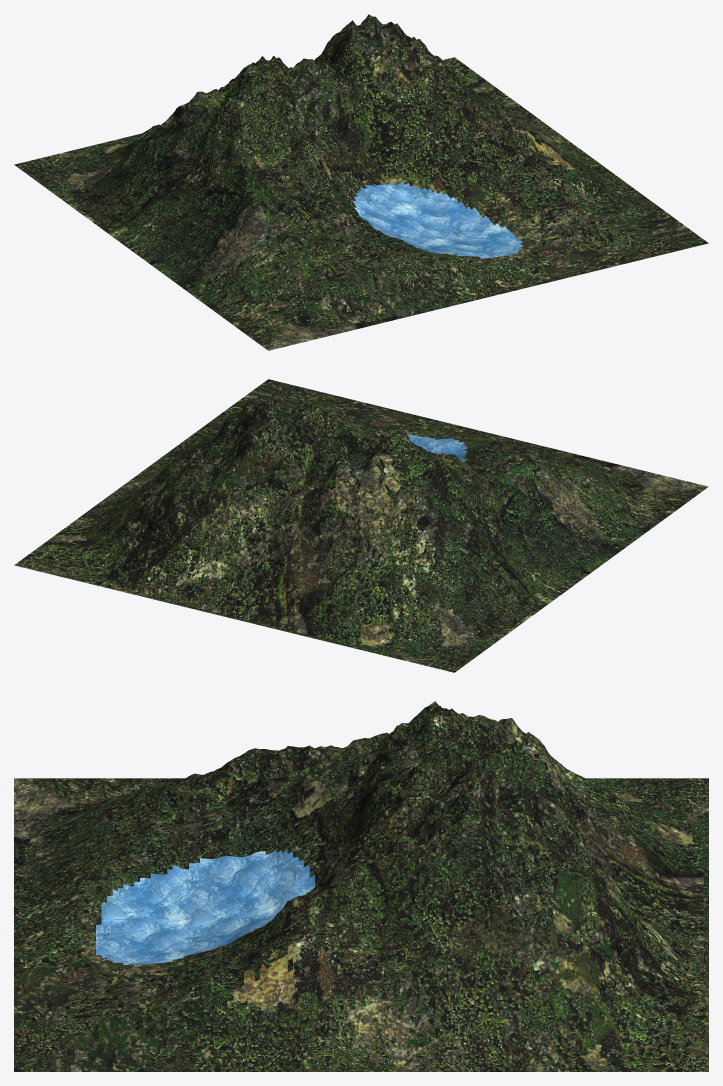
File: mountain.glb
3 renders of one model, top to bottom at view 1: azimuth 30°, elevation 25°; view 2: azimuth 150°, elevation 25°; view 3: azimuth 270°, elevation 25°, orthographic. The views are drawn at different scales.
Parts seen in each view (by area): view 1: Landscape.001; view 2: Landscape.001; view 3: Landscape.001.
Part boxes in pixels (<box>): Landscape.001: <box>14,14,708,350</box>; Landscape.001: <box>14,379,708,672</box>; Landscape.001: <box>14,701,708,1071</box>.
Bounding box in the file's own units: 54.87 × 17.39 × 54.87.
Materials: 2 (2 with a texture image).
